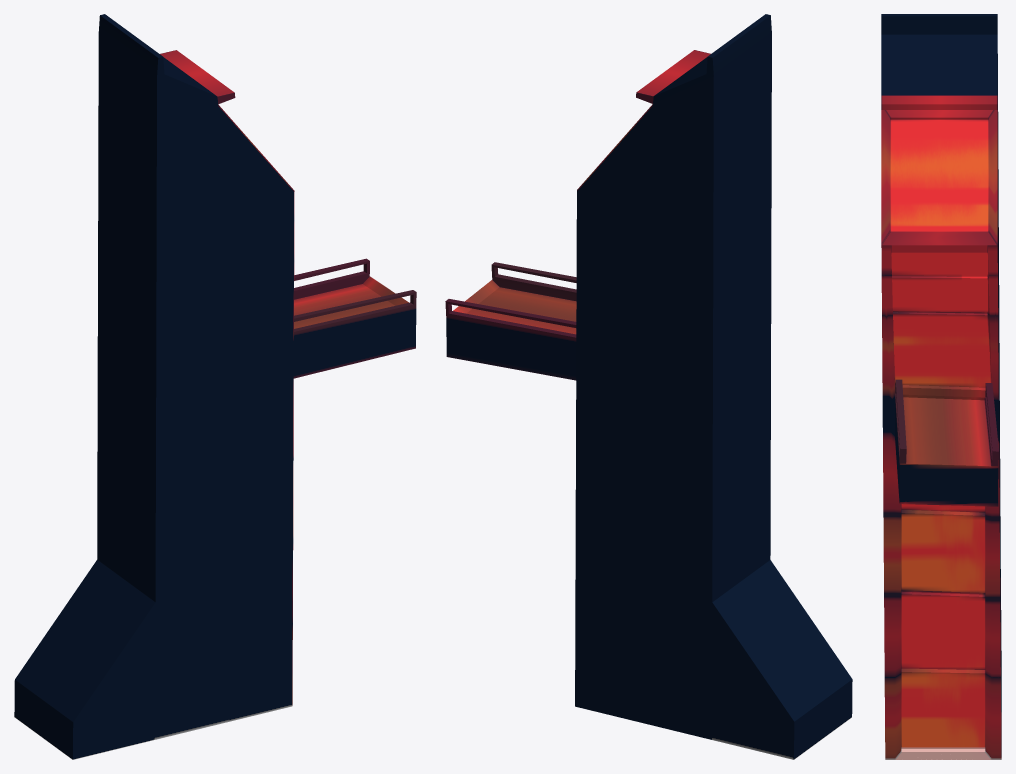
Rendered from Building2.fbx.
3 renders of one model, left to right at view 1: azimuth 30°, elevation 25°; view 2: azimuth 150°, elevation 25°; view 3: azimuth 270°, elevation 25°, orthographic.
Parts seen in each view (by area): view 1: Building2; view 2: Building2; view 3: Building2.
Boxes of the visible parts, x1=… form: Building2: x1=14, y1=14, x2=416, y2=759; Building2: x1=445, y1=14, x2=852, y2=759; Building2: x1=881, y1=14, x2=1001, y2=759.
Bounding box in the file's own units: 3.47 × 6.45 × 1.03.
1 material, 1 textured.
